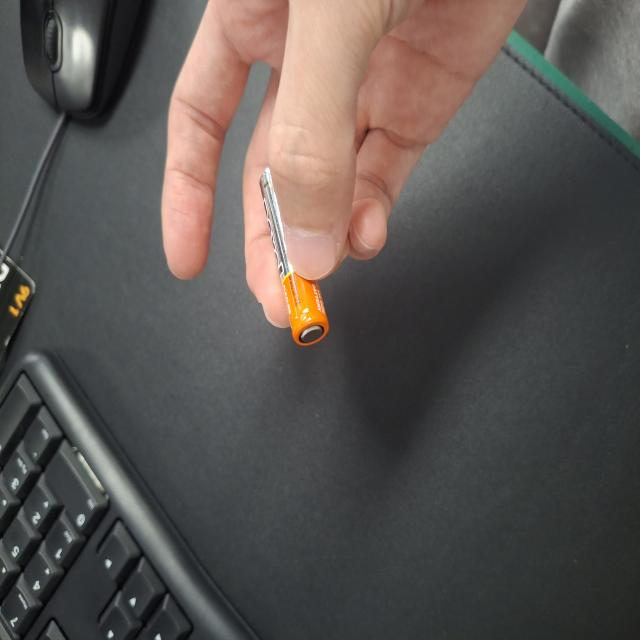AAA: (221, 346, 354, 438)
